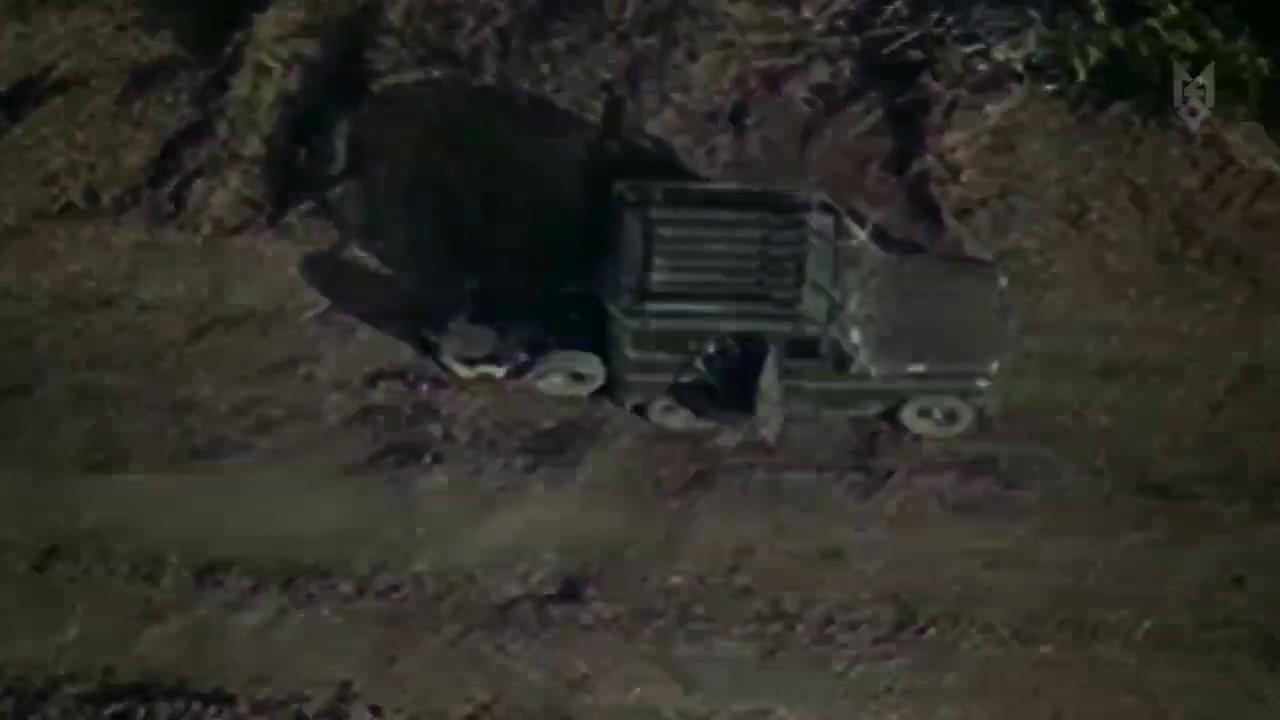tank: (600, 171, 1016, 452)
